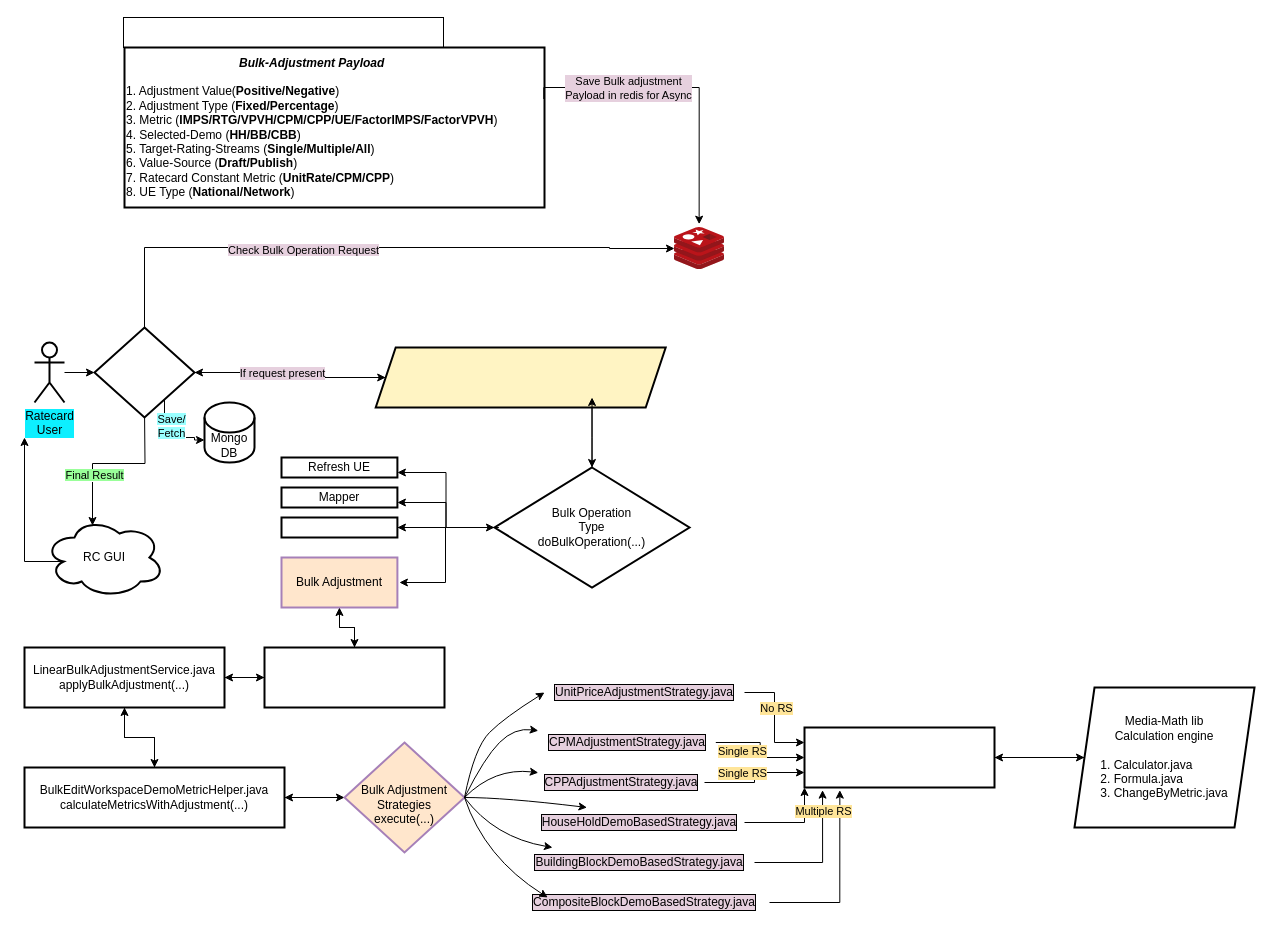
Some shapes in this 1273 by 935 pixel diagram are drawn without their labels. The shapes that lost their labels are listed below. From the top down, each one's centre as x and y in pixels, then its label:
At (x=283, y=32): "Ratecad-workspace > Operation > Bulk Adjsutment".
At (x=144, y=372): "Load/Save Workspace".
At (x=520, y=377): "Bulk-Operation Framework".
At (x=339, y=527): "Copy Duplicate".
At (x=354, y=677): "BulkAdjustmentOperation.java doLinerMetricsAdjustment(...)".
At (x=899, y=757): "BulkEditLRWSMUtil.java".
